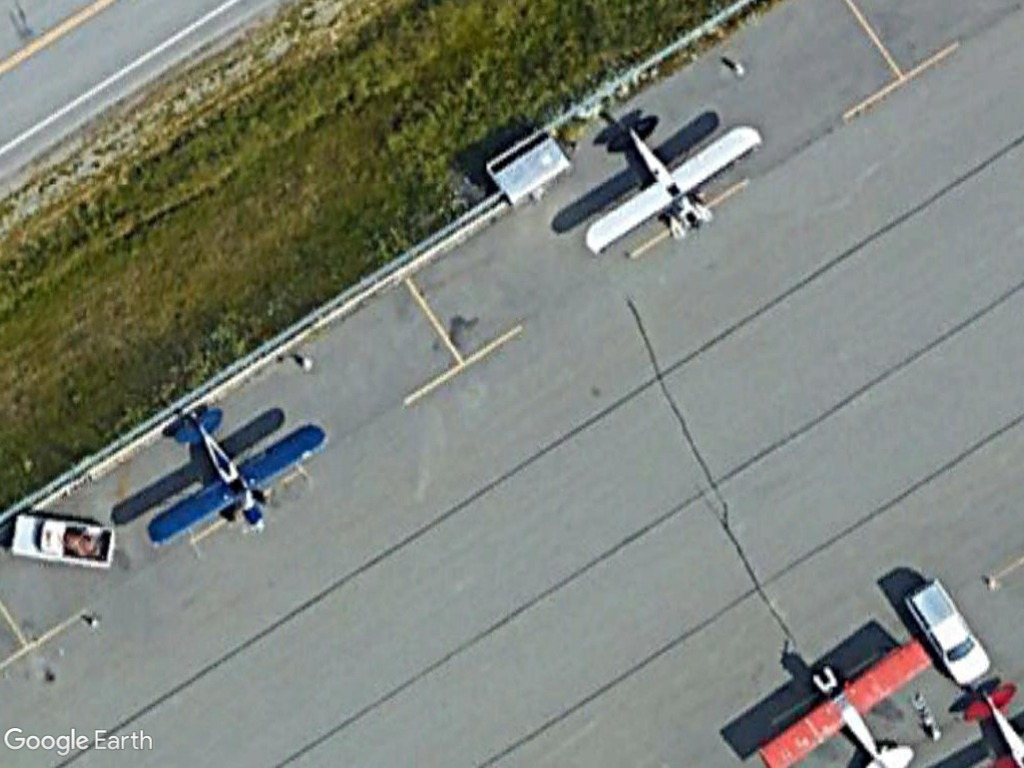trainer: (583, 108, 766, 260), (147, 402, 327, 551)
van: (899, 580, 991, 693)
